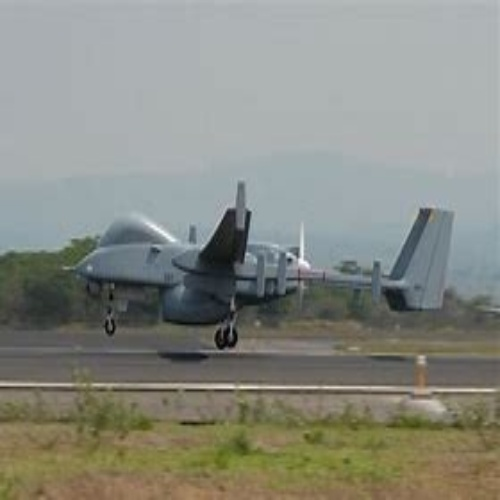uav: (64, 176, 453, 347)
